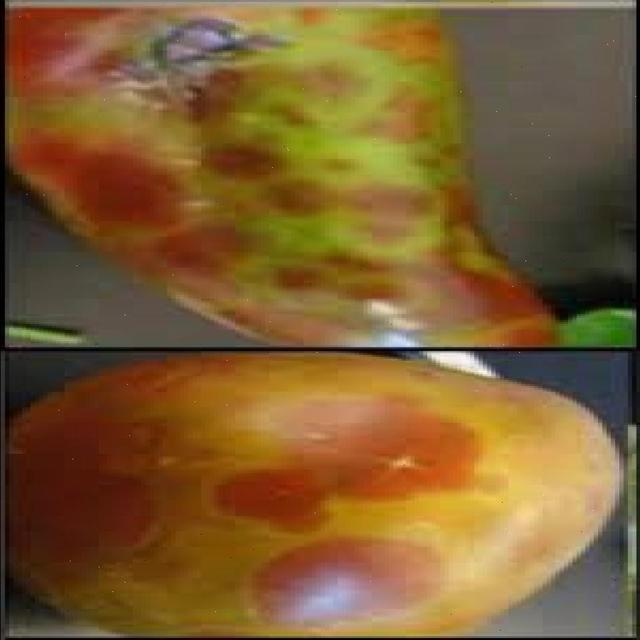Spotted wilt Virus Fruit: (293, 13, 398, 277)
